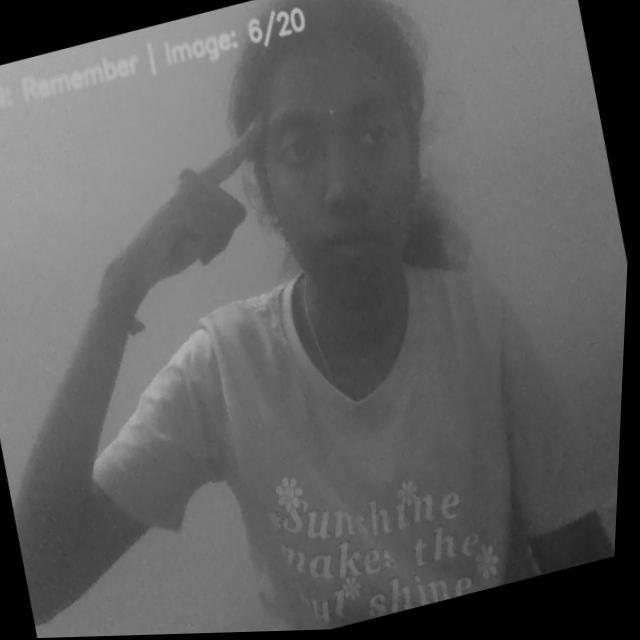Remember: (67, 100, 305, 319)
